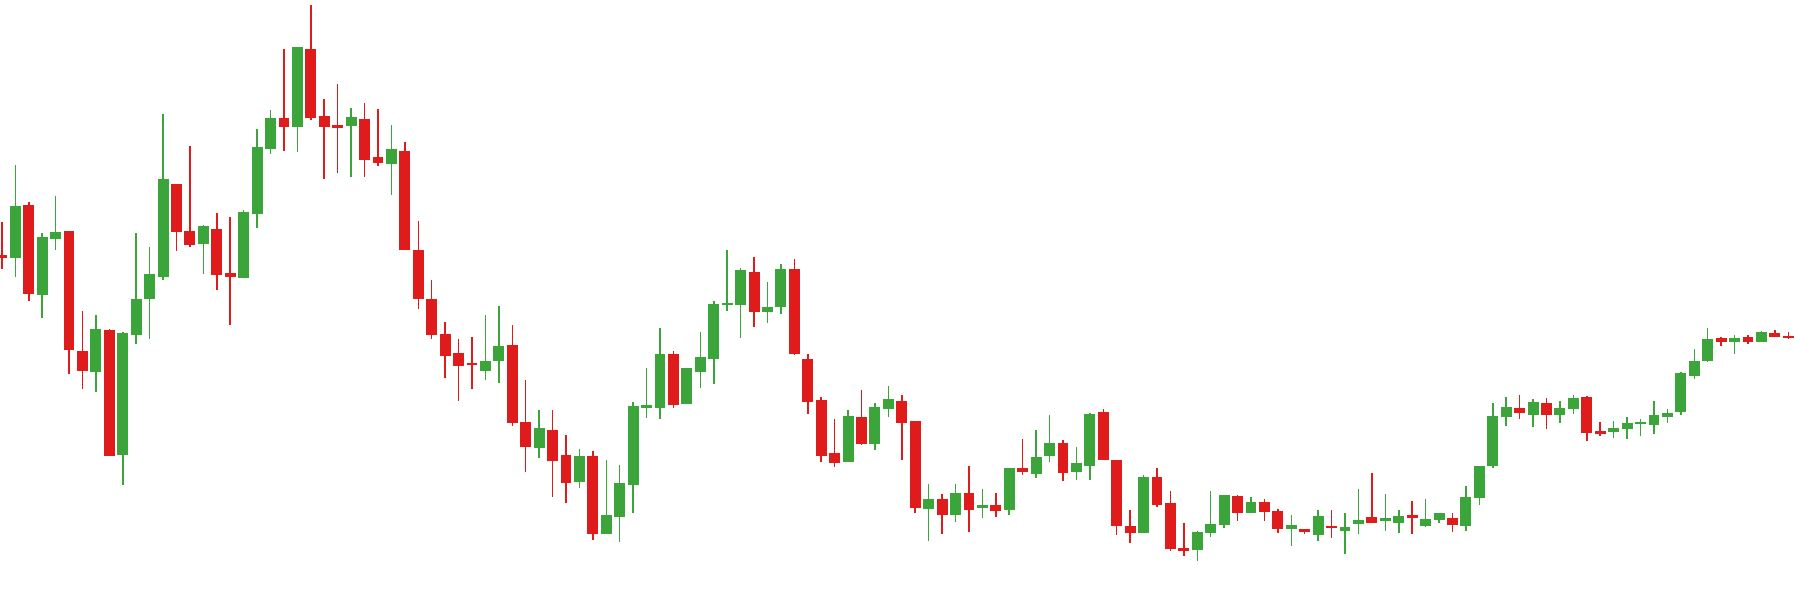sell: (153, 49, 289, 239)
